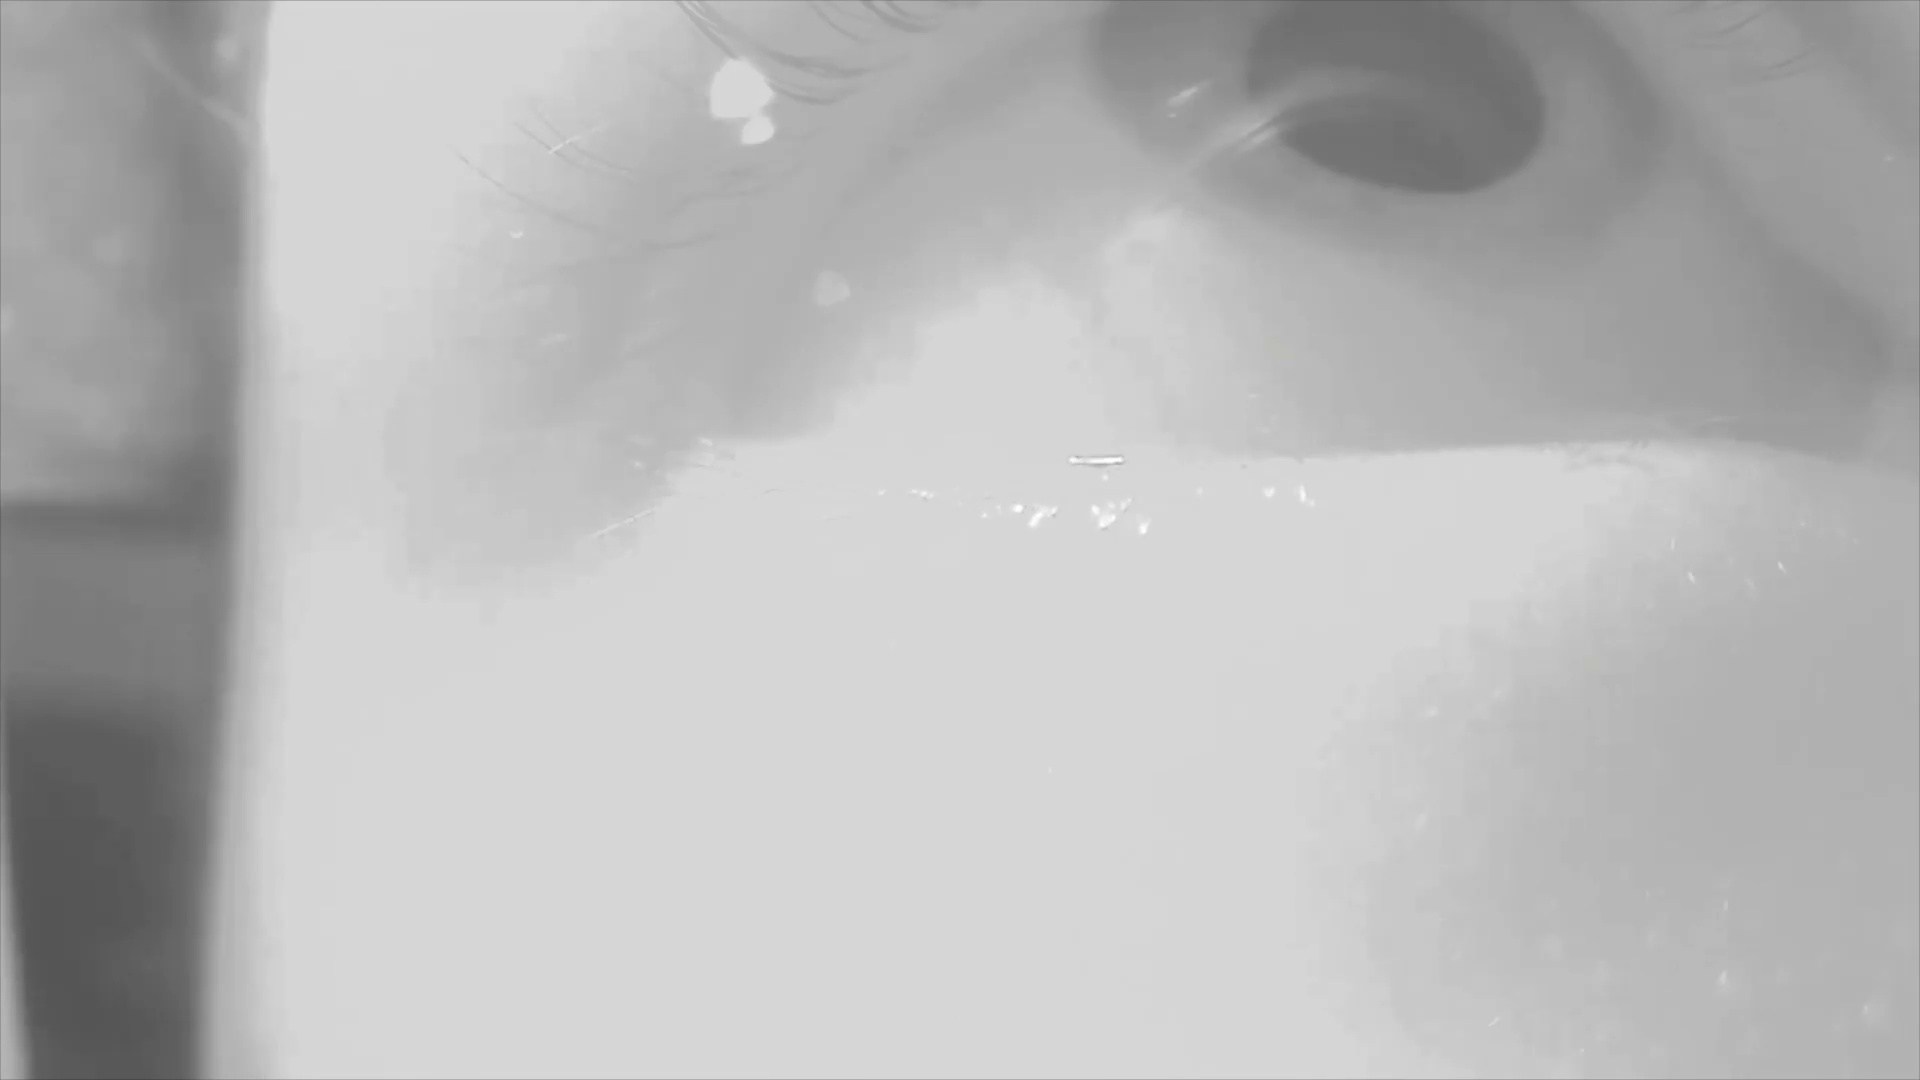pupil: (1246, 3, 1550, 196)
